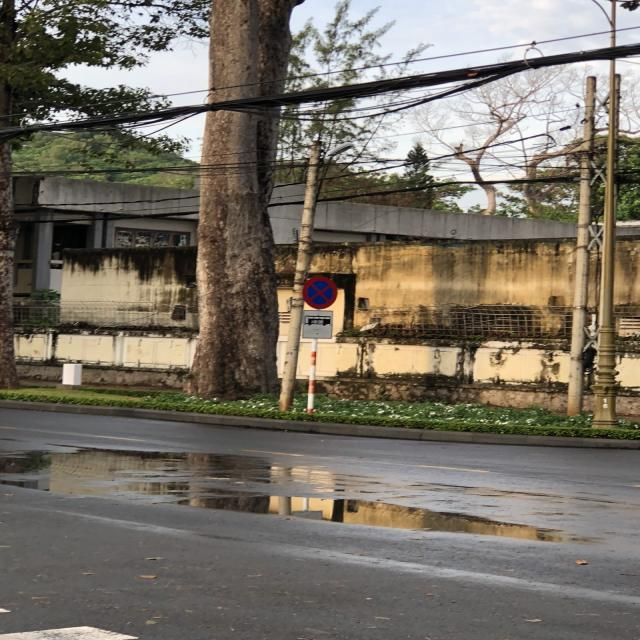Bien bao cam dung xe va do xe: (299, 276, 340, 309)
